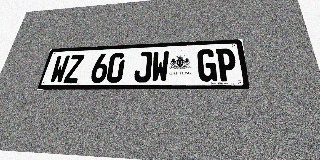0: (106, 53, 126, 83)
6: (90, 53, 110, 83)
G: (197, 49, 217, 82)
J: (133, 52, 152, 82)
P: (216, 48, 238, 81)
W: (49, 55, 70, 83), (151, 51, 169, 82)
Z: (63, 54, 85, 83)
